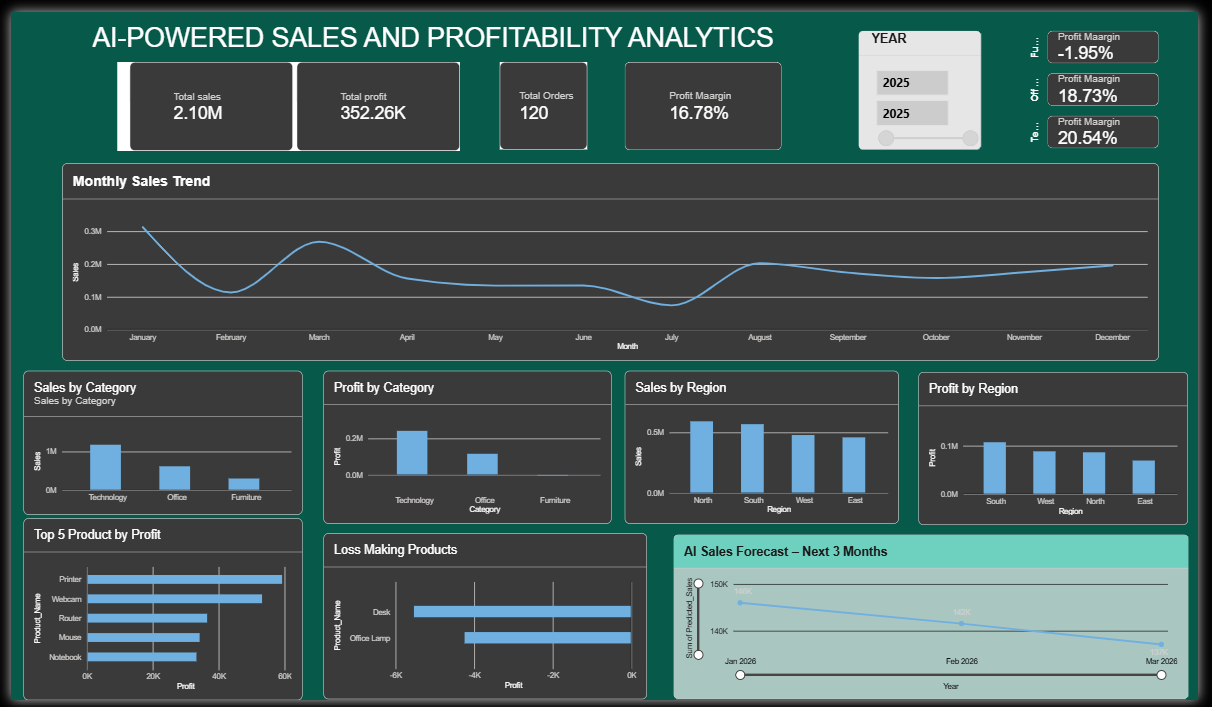

This screenshot's page, from the dashboard's own definition file:
{"tool":"powerbi","page":{"name":"DASHBOARD","canvas":[1900,1100],"ordinal":0},"visuals":[{"type":"cardVisual","fields":{"Data":["Sum(Sales_Analytics_Cleaned.Sales)","Sum(Sales_Analytics_Cleaned.Profit)"]},"box":[170.1,79.6,548,142],"z":0},{"type":"lineChart","title":"Monthly Sales Trend","fields":{"Category":["Sales_Analytics_Cleaned.Order_Date.Variation.Date Hierarchy.Month"],"Y":["Sum(Sales_Analytics_Cleaned.Sales)"]},"box":[81.4,242.5,1754,316],"z":4},{"type":"clusteredColumnChart","title":"Sales by Category","fields":{"Category":["Sales_Analytics_Cleaned.Category"],"Y":["Sum(Sales_Analytics_Cleaned.Sales)"]},"box":[20.3,573.2,446,230.4],"z":5},{"type":"clusteredColumnChart","title":"Profit by Category","fields":{"Category":["Sales_Analytics_Cleaned.Category"],"Y":["Sum(Sales_Analytics_Cleaned.Profit)"]},"box":[499.5,573.2,460.8,245.1],"z":6},{"type":"clusteredColumnChart","title":"Sales by Region","fields":{"Category":["Sales_Analytics_Cleaned.Region"],"Y":["Sum(Sales_Analytics_Cleaned.Sales)"]},"box":[982.4,573.2,438.7,245.1],"z":7},{"type":"clusteredColumnChart","title":"Profit by Region","fields":{"Category":["Sales_Analytics_Cleaned.Region"],"Y":["Sum(Sales_Analytics_Cleaned.Profit)"]},"box":[1452.4,575.1,431.3,245.1],"z":8},{"type":"clusteredBarChart","title":"Top 5 Product by Profit","fields":{"Category":["Sales_Analytics_Cleaned.Product_Name"],"Y":["Sum(Sales_Analytics_Cleaned.Profit)"]},"box":[20.3,809.2,446,291.2],"z":9},{"type":"clusteredBarChart","title":"Loss Making Products","fields":{"Category":["Sales_Analytics_Cleaned.Product_Name"],"Y":["Sum(Sales_Analytics_Cleaned.Profit)"]},"box":[499.5,835,517.9,265.4],"z":10},{"type":"lineChart","title":"AI Sales Forecast – Next 3 Months","fields":{"Category":["Sales_Forecast.Month.Variation.Date Hierarchy.Year","Sales_Forecast.Month.Variation.Date Hierarchy.Quarter","Sales_Forecast.Month.Variation.Date Hierarchy.Month","Sales_Forecast.Month.Variation.Date Hierarchy.Day"],"Y":["Sum(Sales_Forecast.Predicted_Sales)"]},"box":[1059.8,836.8,823.9,263.6],"z":11},{"type":"textbox","box":[52,0,279,192],"z":13},{"type":"textbox","box":[130.3,16.3,1207,79.6],"z":14},{"type":"slicer","title":"YEAR","fields":{"Values":["Sales_Analytics_Cleaned.Year"]},"box":[1356,30,196,190],"z":15},{"type":"cardVisual","title":"Total Orders","fields":{"Data":["Count(Sales_Analytics_Cleaned.Order_ID)"]},"box":[781.8,79.6,140,140],"z":16},{"type":"cardVisual","fields":{"Data":["Sales_Analytics_Cleaned.Profit Maargin"],"Rows":["Sales_Analytics_Cleaned.Category"]},"box":[1628,30,208,188],"z":17},{"type":"cardVisual","fields":{"Data":["Sales_Analytics_Cleaned.Profit Maargin"]},"box":[982.6,79.6,251.5,141.2],"z":18}]}

Visuals, with their boxes in screenshot pixels (x1, y1, x2, y2), scaled from the page's 1900x1100 canvas onto the 1212x707 screenshot:
cardVisual - Sum(Sales_Analytics_Cleaned.Sales) x Sum(Sales_Analytics_Cleaned.Profit): pyautogui.locateOnScreen(109, 51, 458, 142)
"Monthly Sales Trend" lineChart: pyautogui.locateOnScreen(52, 156, 1171, 359)
"Sales by Category" clusteredColumnChart: pyautogui.locateOnScreen(13, 368, 297, 516)
"Profit by Category" clusteredColumnChart: pyautogui.locateOnScreen(319, 368, 613, 526)
"Sales by Region" clusteredColumnChart: pyautogui.locateOnScreen(627, 368, 907, 526)
"Profit by Region" clusteredColumnChart: pyautogui.locateOnScreen(926, 370, 1202, 527)
"Top 5 Product by Profit" clusteredBarChart: pyautogui.locateOnScreen(13, 520, 297, 706)
"Loss Making Products" clusteredBarChart: pyautogui.locateOnScreen(319, 537, 649, 706)
"AI Sales Forecast – Next 3 Months" lineChart: pyautogui.locateOnScreen(676, 538, 1202, 706)
textbox: pyautogui.locateOnScreen(33, 0, 211, 123)
textbox: pyautogui.locateOnScreen(83, 10, 853, 62)
"YEAR" slicer: pyautogui.locateOnScreen(865, 19, 990, 141)
"Total Orders" cardVisual: pyautogui.locateOnScreen(499, 51, 588, 141)
cardVisual - Sales_Analytics_Cleaned.Profit Maargin x Sales_Analytics_Cleaned.Category: pyautogui.locateOnScreen(1038, 19, 1171, 140)
cardVisual - Sales_Analytics_Cleaned.Profit Maargin: pyautogui.locateOnScreen(627, 51, 787, 142)
